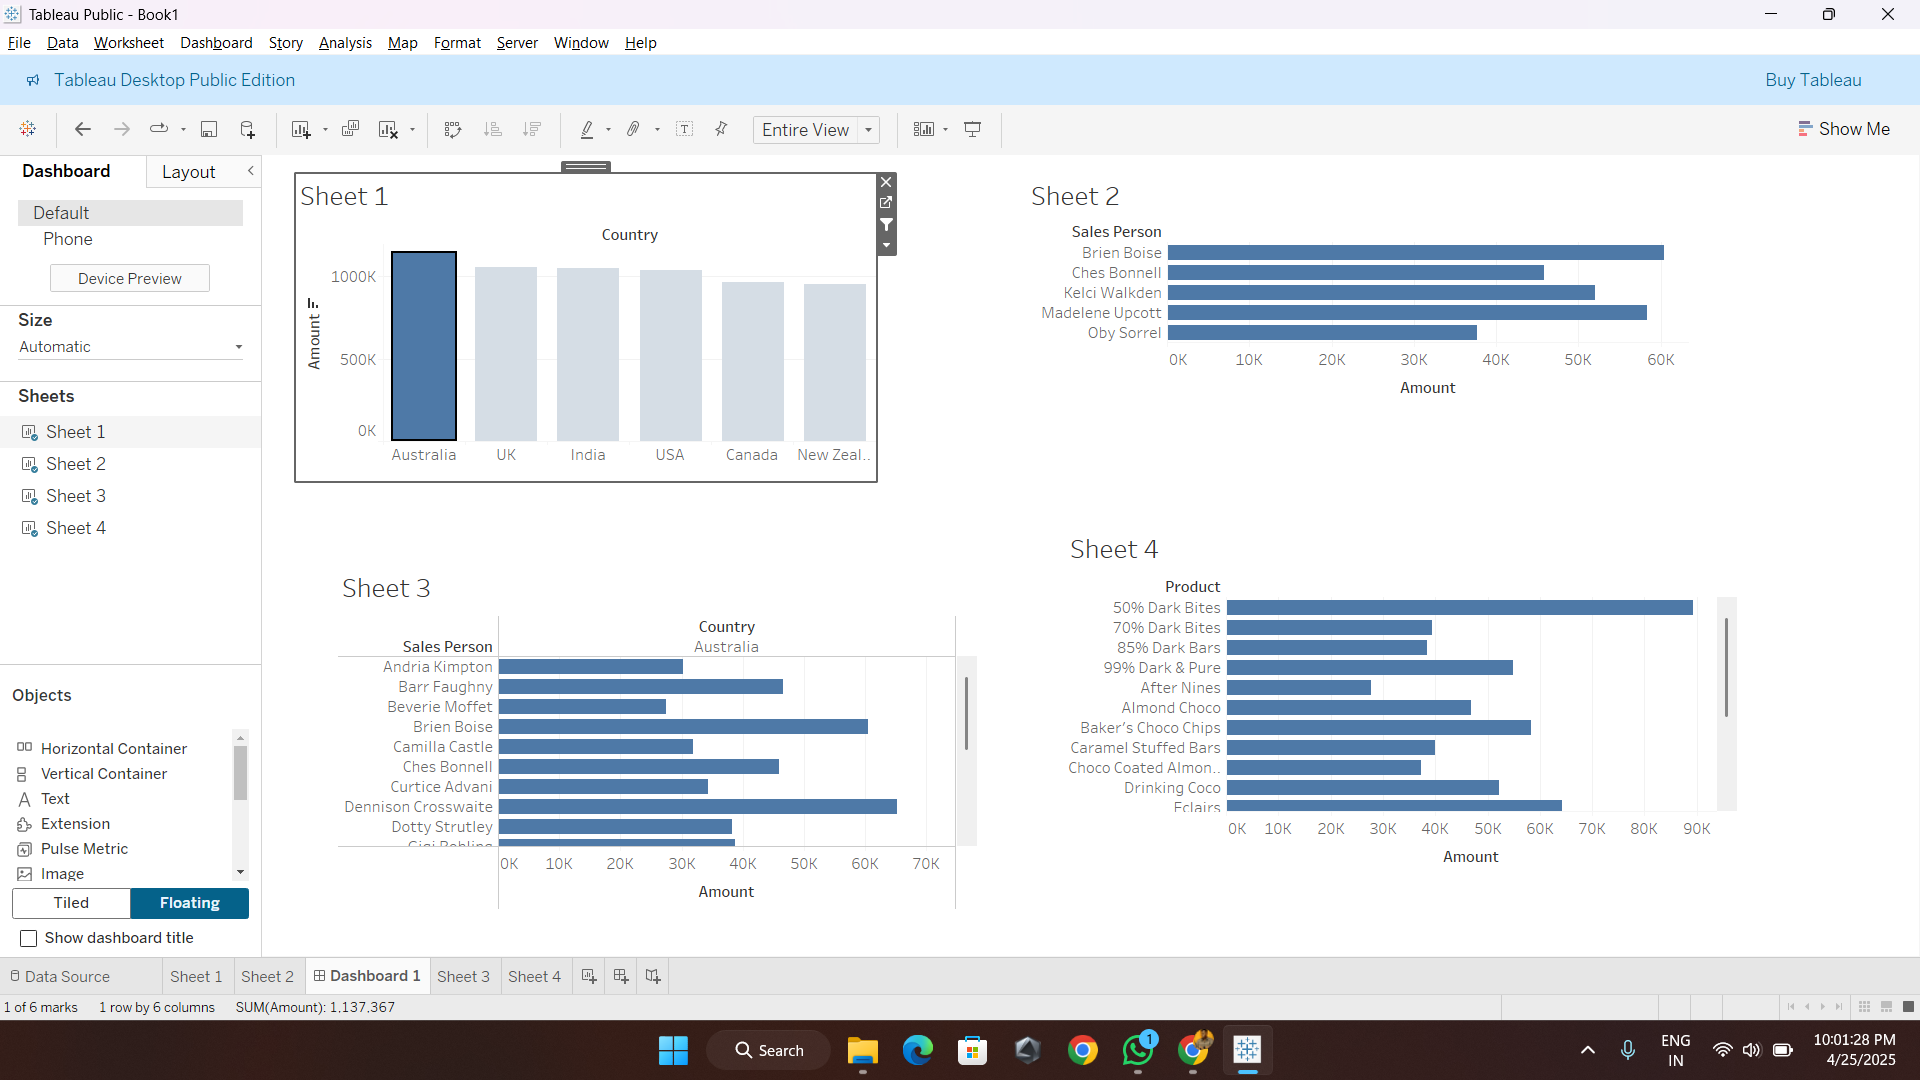

The dashboard page shown, as its layout file describes it:
{"tool":"tableau","page":{"name":"Dashboard 1","canvas":[1000,1000],"units":"permille","ordinal":0},"visuals":[{"type":"worksheet","title":"Sheet 1","mark":"Automatic","rows":["Amount"],"cols":["Country"],"box":[20.5,23.7,350,383.3]},{"type":"worksheet","title":"Sheet 2","mark":"Automatic","rows":["Sales Person"],"cols":["Amount"],"box":[461.7,23.7,399.5,380.8]},{"type":"worksheet","title":"Sheet 4","mark":"Automatic","rows":["Product"],"cols":["Amount"],"box":[485.2,464.4,404.9,433.2]},{"type":"worksheet","title":"Sheet 3","mark":"Automatic","rows":["Sales Person"],"cols":["Country","Amount"],"box":[45.9,513.1,385.6,429.5]}]}

Visuals, with their boxes on the dashboard's canvas, which has no fixed pixel size, in thousandths of its width and height (x1, y1, x2, y2). These are canvas units, not pixel positions in the 1920x1080 screenshot, which may show the page scaled, cropped or inside an application window:
"Sheet 1" worksheet: [20,24,370,407]
"Sheet 2" worksheet: [462,24,861,404]
"Sheet 4" worksheet: [485,464,890,898]
"Sheet 3" worksheet: [46,513,432,943]
